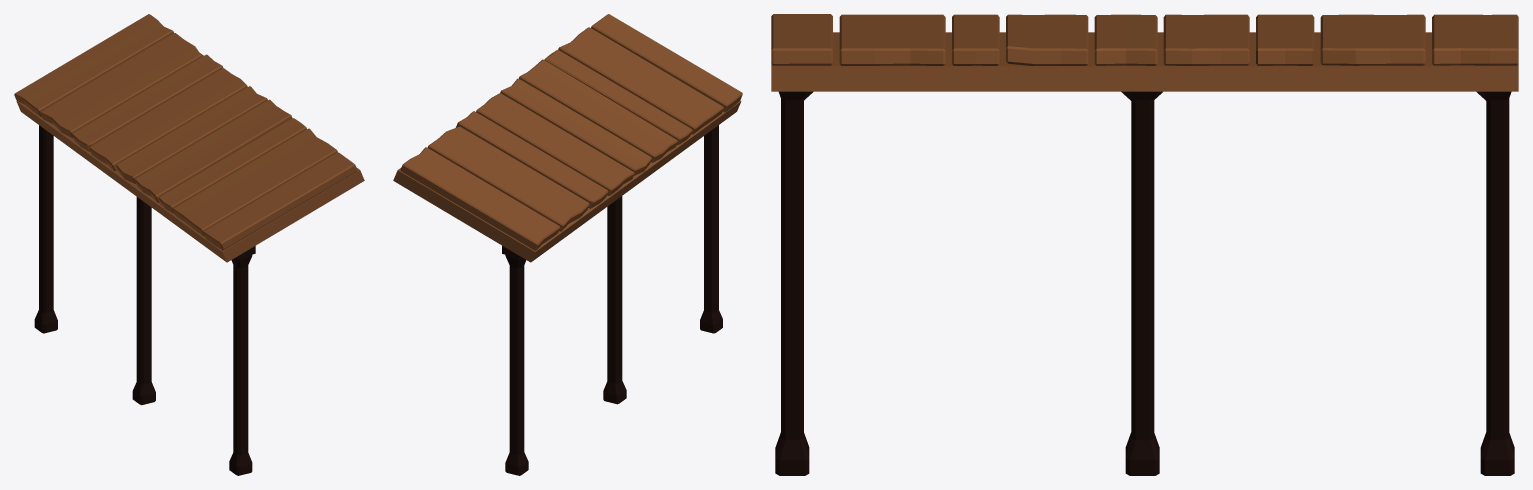
File: ww_balcony_b.glb
3 views of the same model, side by side, from view 1: azimuth 30°, elevation 25°; view 2: azimuth 150°, elevation 25°; view 3: azimuth 270°, elevation 25° (orthographic). The views are drawn at different scales.
Parts seen in each view (by area): view 1: Balcony_B; view 2: Balcony_B; view 3: Balcony_B.
Part boxes in pixels (x1,y1,x2,y2): Balcony_B: (14,14,364,475); Balcony_B: (393,14,742,475); Balcony_B: (771,14,1518,475).
Bounding box in the file's own units: 2.14 × 4.05 × 5.28.
